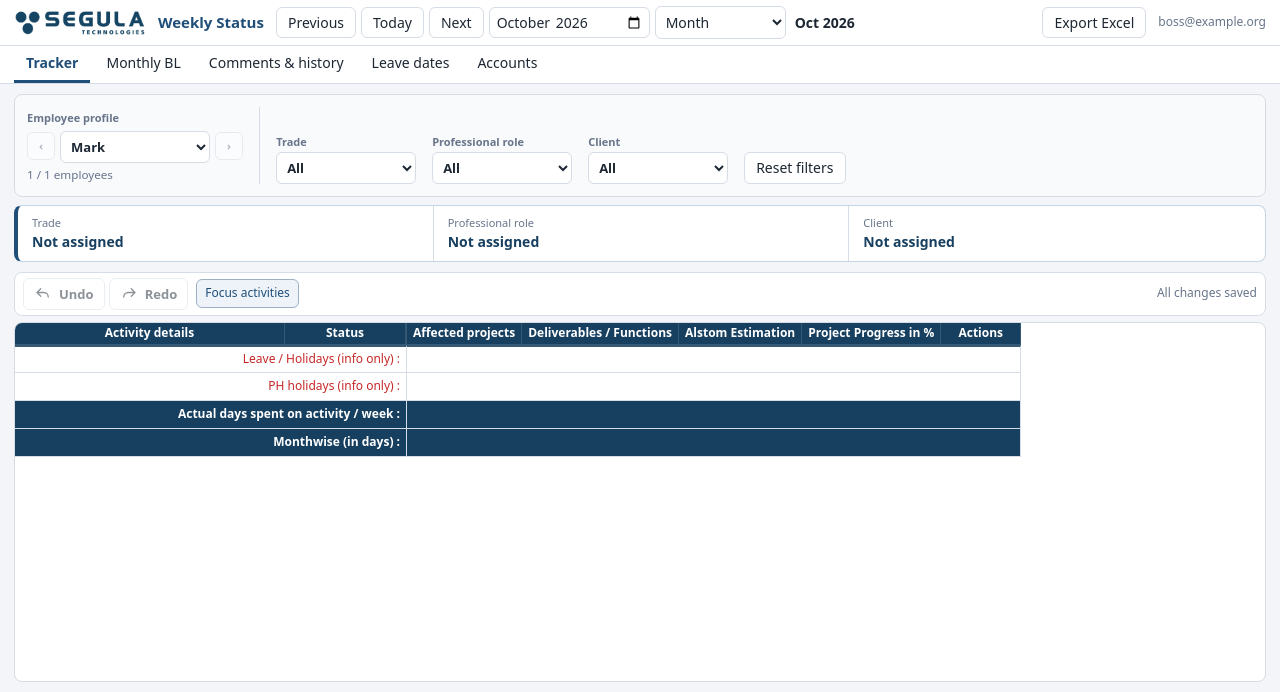
it: refreshes the selected profile after account deactivate
The width and height of the screenshot is (1280, 692).
Expected: the element named "Employee affiliation" is shown, [14, 204, 1266, 262]
Click the button "Accounts" at (507,64), box [465, 46, 549, 83]
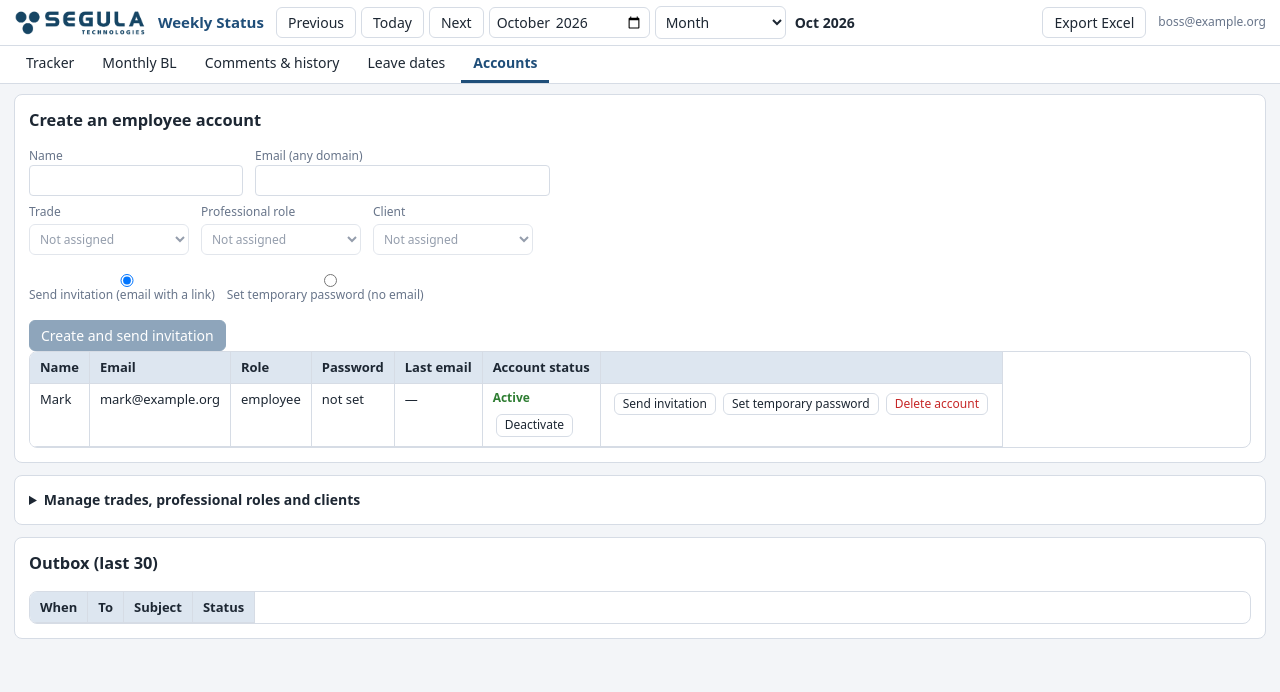
Click the button with aria-label "active-mark@example.org" at (534,426), box [496, 414, 573, 437]
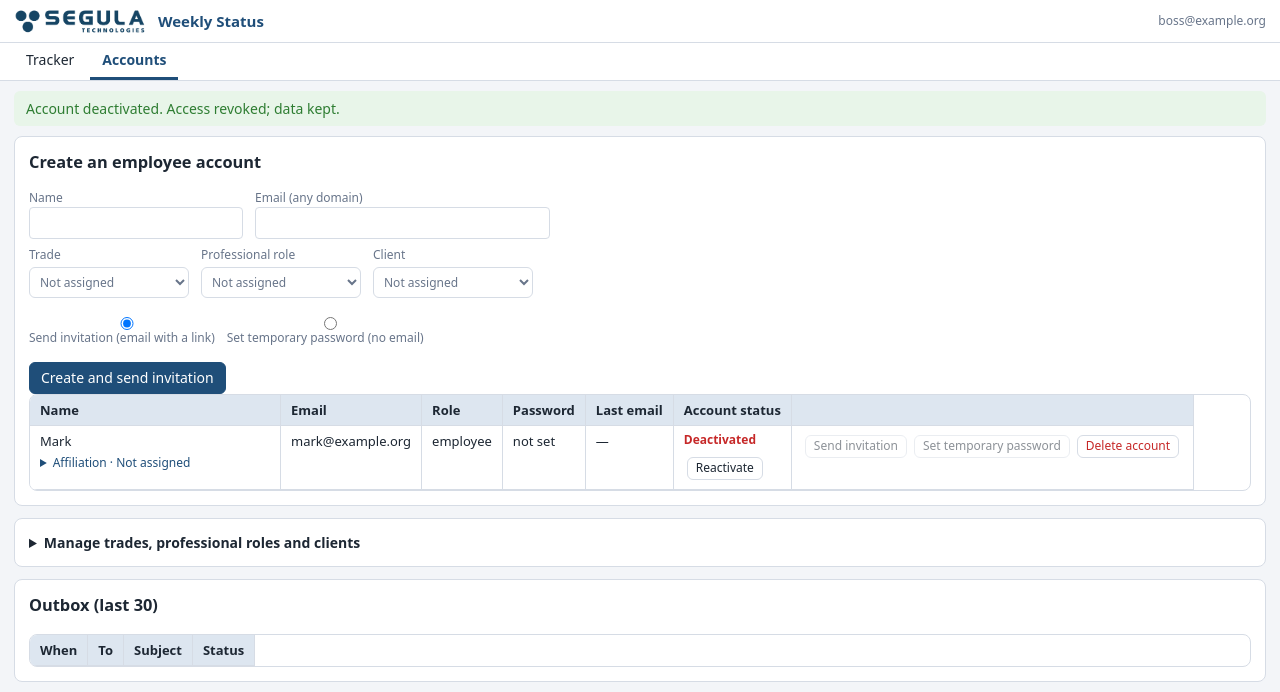
Expected: the text "Account deactivated. Access revoked; data kept." is shown, [14, 91, 1266, 126]
Click the button "Tracker" at (50,61), box [14, 43, 86, 80]
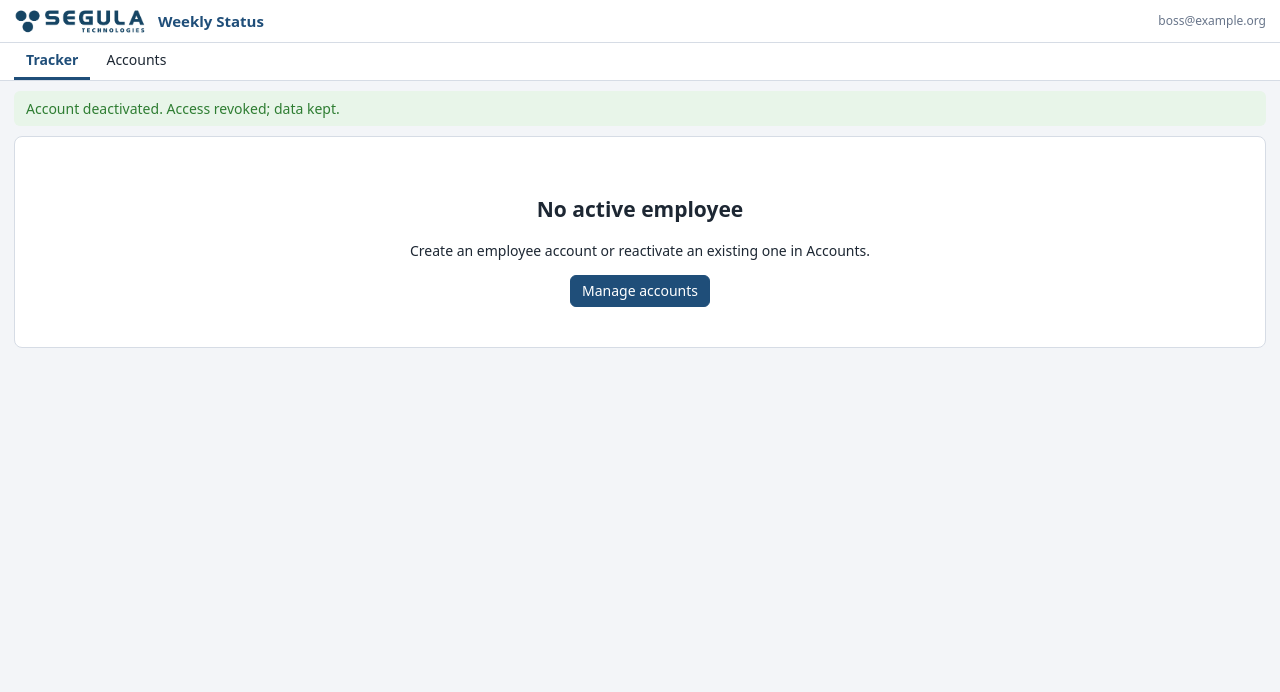
Expected: the heading "No active employee" is shown, [537, 195, 743, 223]
